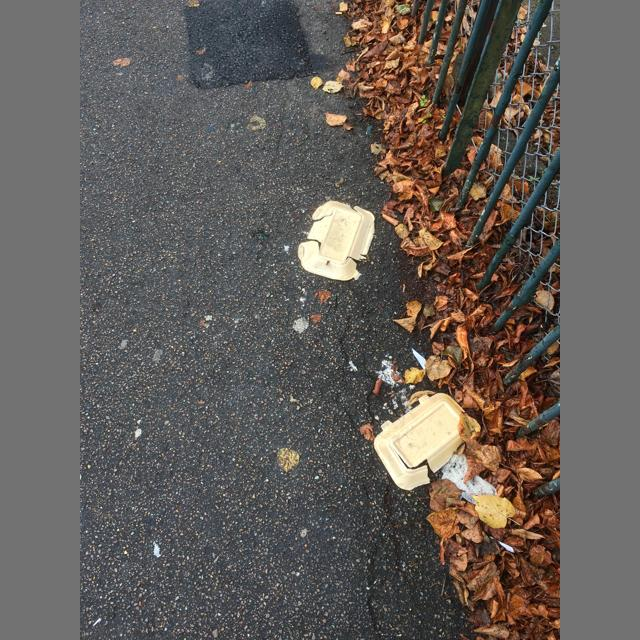litter: (374, 393, 469, 491), (298, 201, 375, 280), (440, 454, 497, 504)
